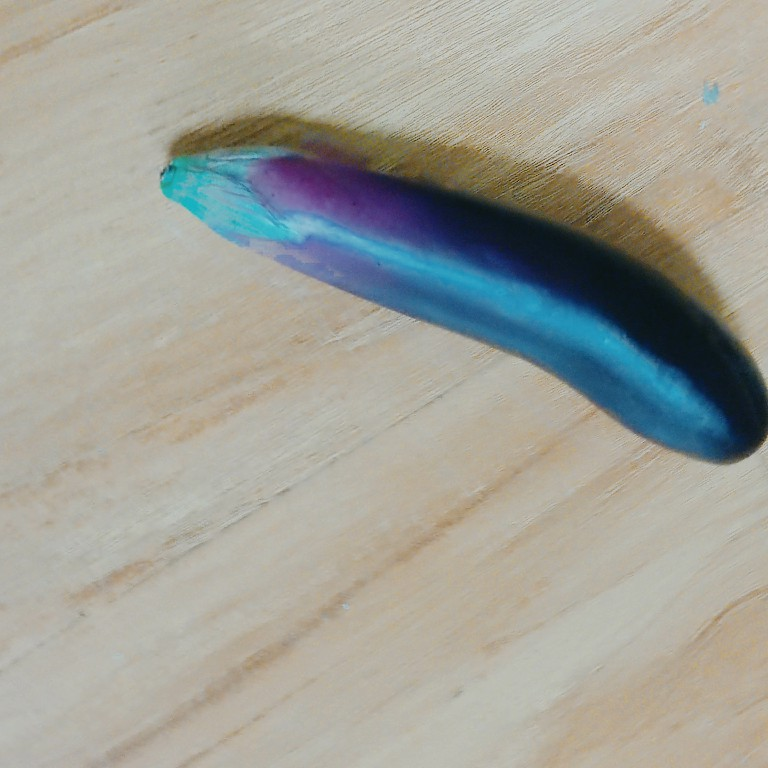fruit_eggplant: (155, 138, 768, 474)
